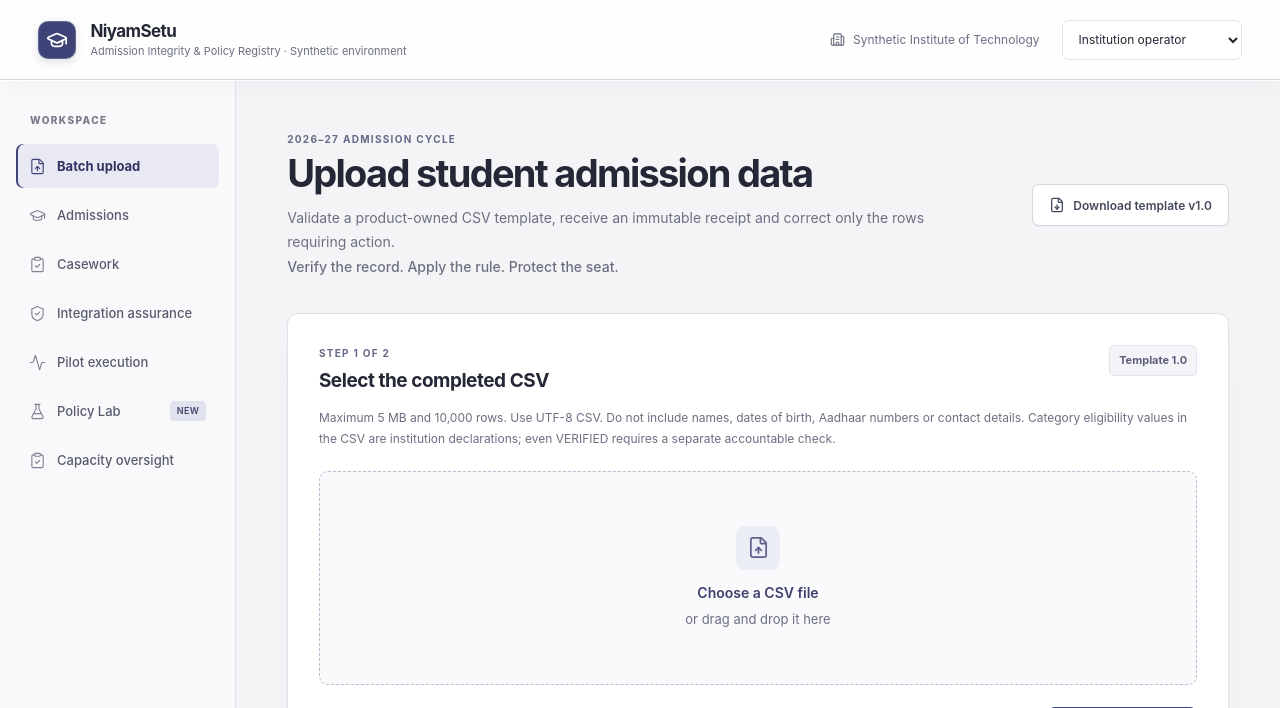
Test: casework portal journeys › navigates from batch upload to the role-specific casework workspace
The image size is (1280, 708).
Click the button "Casework" at point(118, 264), box [16,242,219,286]
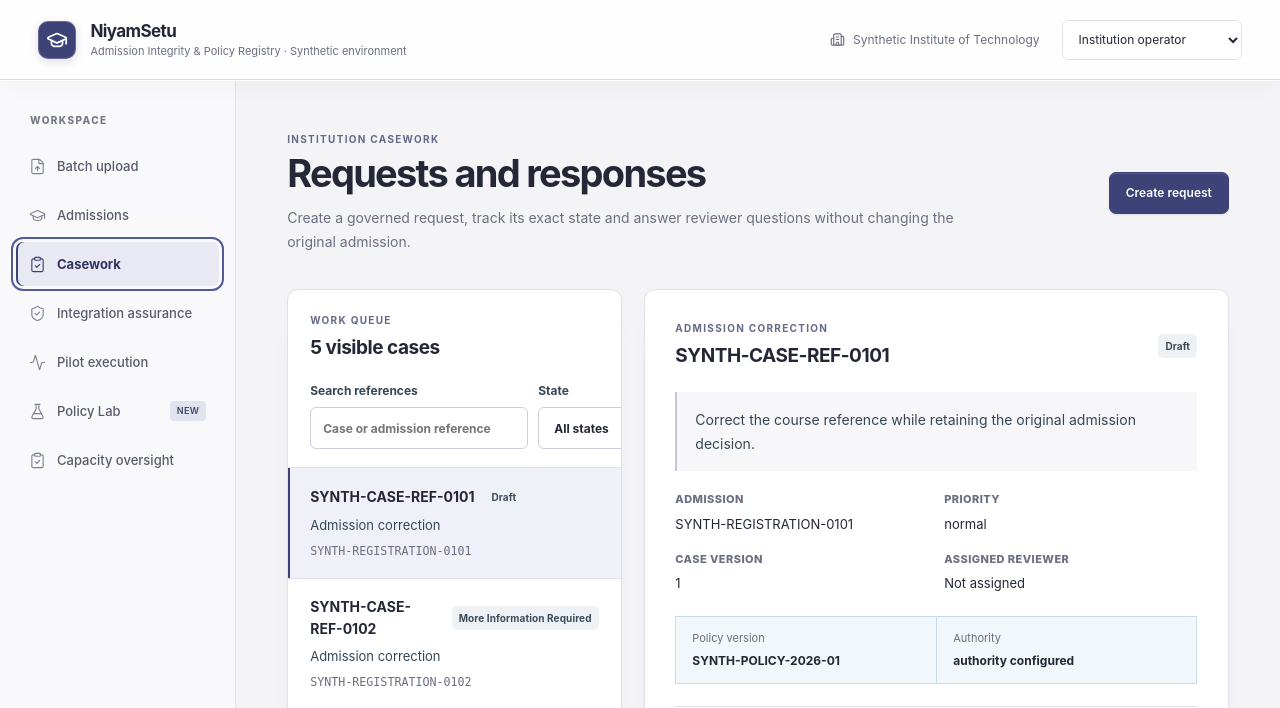
Now the heading "Requests and responses" is shown, box [287,150,705,196]
Select "AICTE reviewer" in the dropdown named "Preview role" at point(1152, 40), box [1062,20,1242,60]
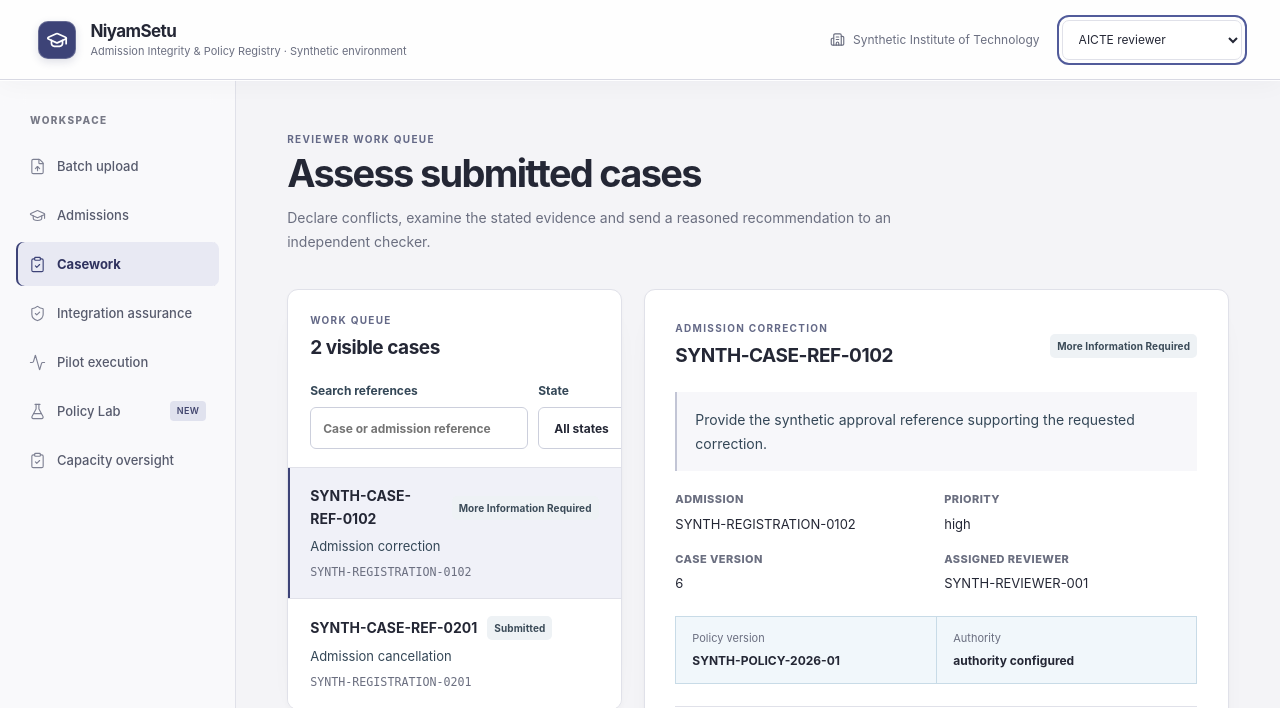
Now the heading "Assess submitted cases" is shown, box [287,150,701,196]
Select "AICTE checker" in the dropdown named "Preview role" at point(1152, 40), box [1062,20,1242,60]
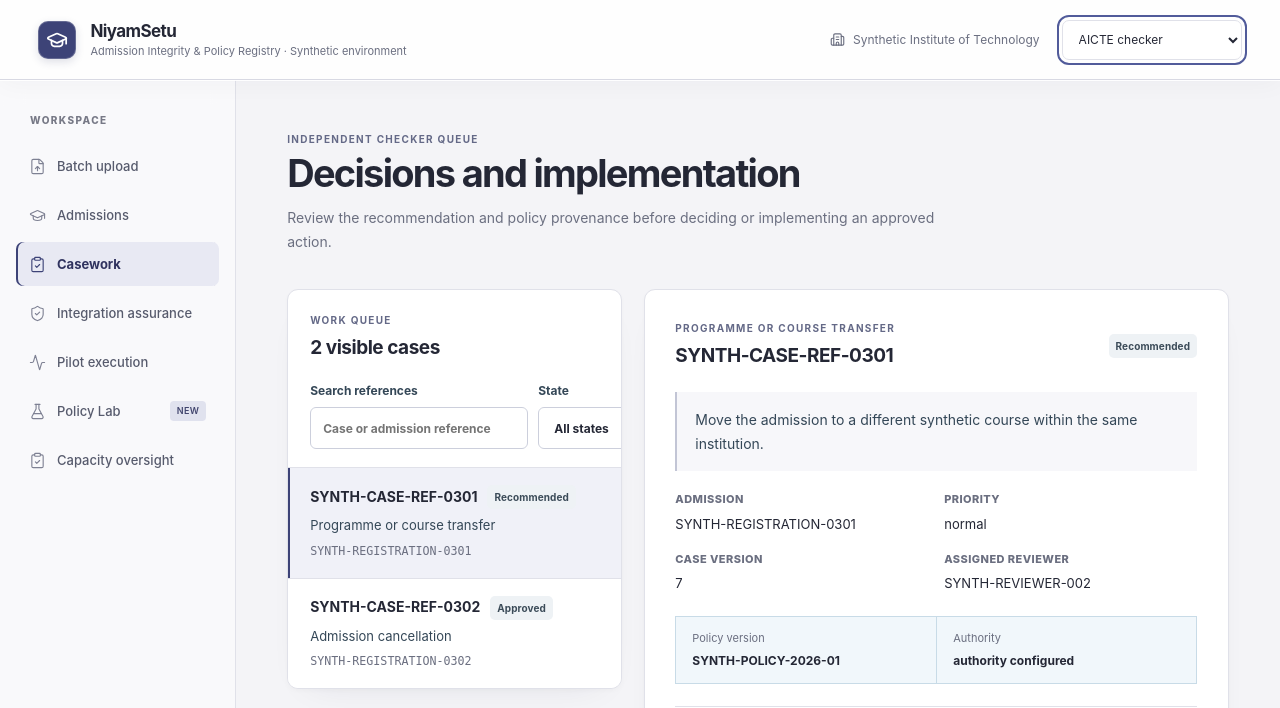
Now the heading "Decisions and implementation" is shown, box [287,150,800,196]
Click the button "Batch upload" at point(118, 166), box [16,144,219,188]
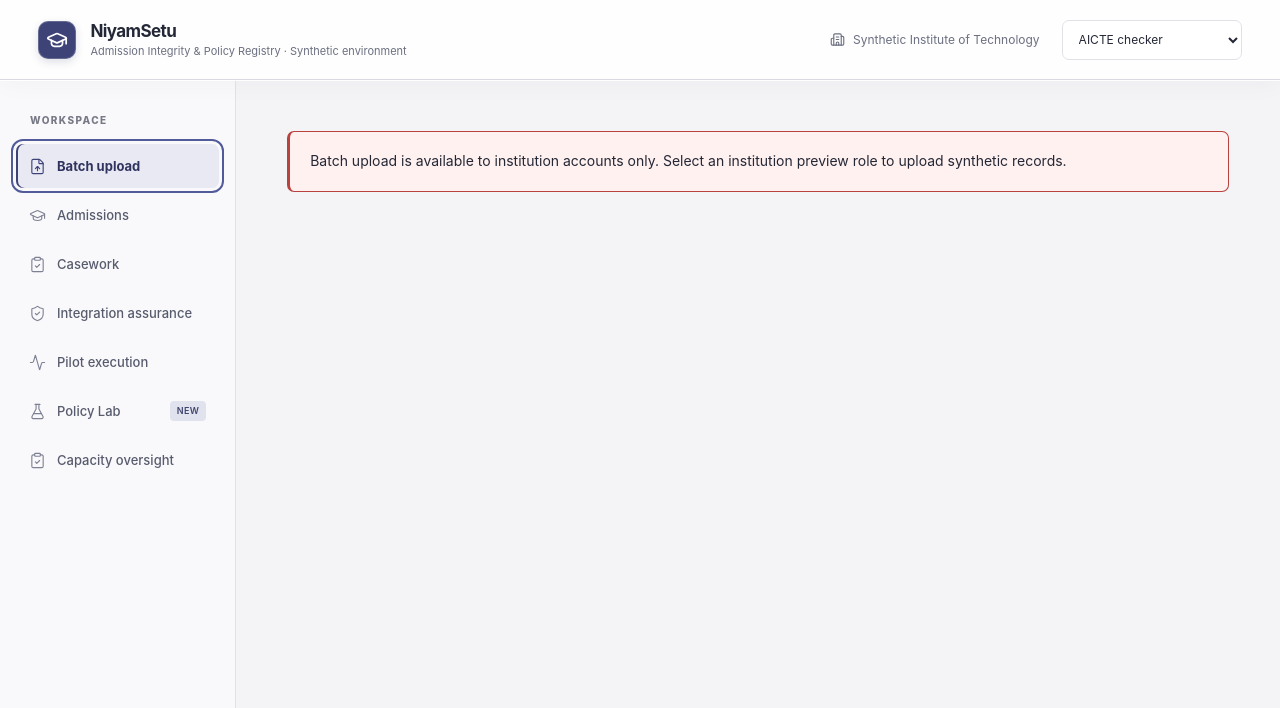
Now the message shows "institution accounts only", box [310,152,1067,169]
Select "Institution operator" in the dropdown named "Preview role" at point(1152, 40), box [1062,20,1242,60]
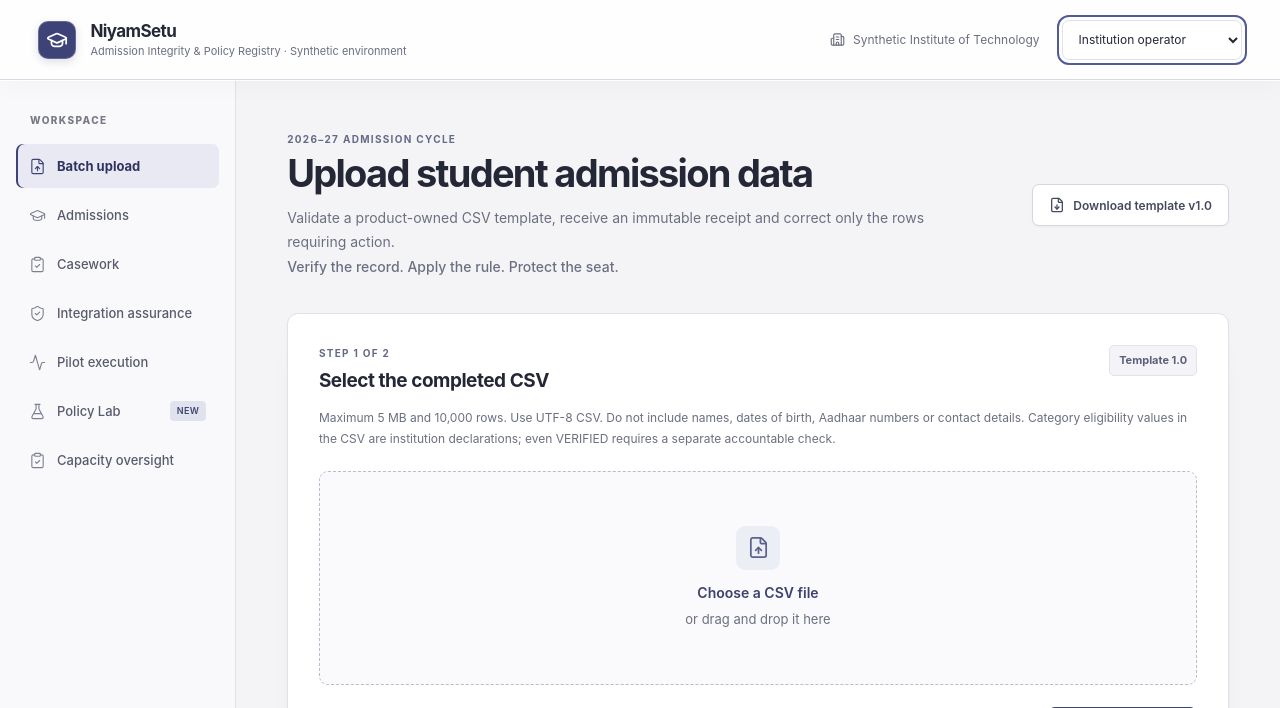
Now the heading "Upload student admission data" is shown, box [287,150,812,196]
